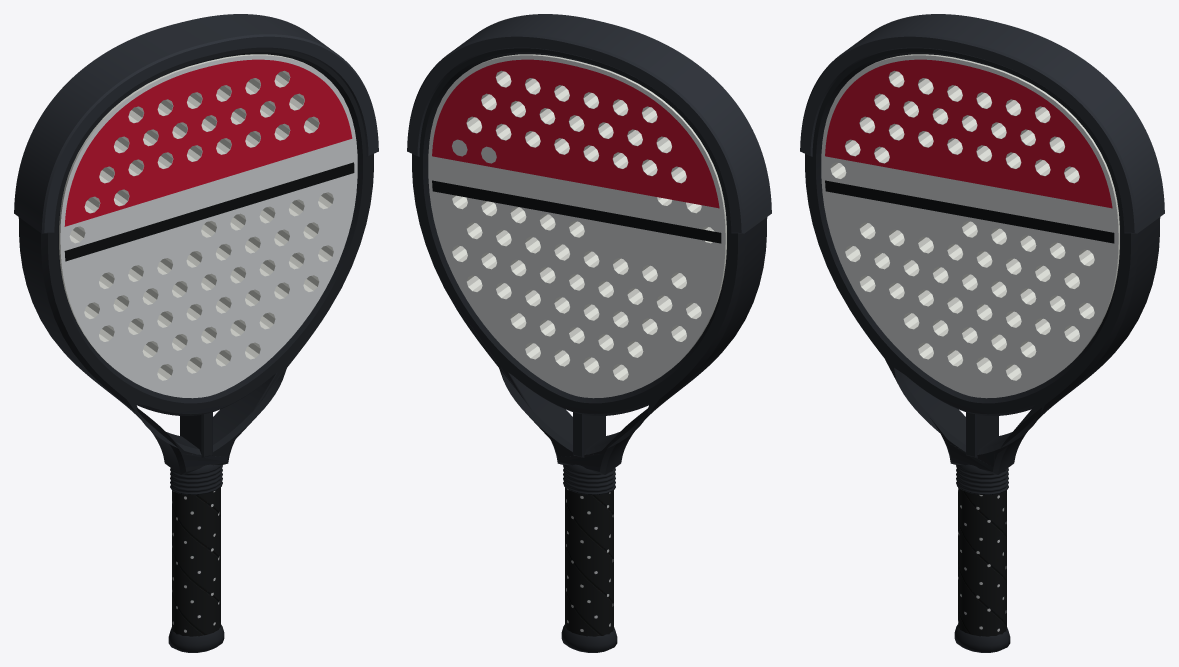
Rendered from wilson-bela-pro-v3.preview.glb.
The picture shows the model from 3 angles, left to right: view 1: azimuth 30°, elevation 25°; view 2: azimuth 150°, elevation 25°; view 3: azimuth 330°, elevation 25°; orthographic projection.
Parts seen in each view (by area): view 1: part_face, part_print, part_frame, part_bumper, part_grip, part_collar, part_bridge, part_cap; view 2: part_face, part_print, part_frame, part_bumper, part_grip, part_collar, part_bridge, part_cap; view 3: part_face, part_print, part_frame, part_bumper, part_grip, part_collar, part_bridge, part_cap.
Boxes of the visible parts, <box> form: part_face: <box>59,54,357,398</box>; part_print: <box>64,59,354,261</box>; part_frame: <box>18,48,373,474</box>; part_bumper: <box>14,14,378,233</box>; part_grip: <box>172,487,220,636</box>; part_collar: <box>170,464,222,494</box>; part_bridge: <box>180,412,212,457</box>; part_cap: <box>168,624,224,652</box>; part_face: <box>428,54,726,398</box>; part_print: <box>432,59,721,243</box>; part_frame: <box>412,48,767,474</box>; part_bumper: <box>407,14,771,233</box>; part_grip: <box>565,487,613,636</box>; part_collar: <box>563,464,615,494</box>; part_bridge: <box>573,412,605,457</box>; part_cap: <box>561,624,617,652</box>; part_face: <box>821,54,1119,398</box>; part_print: <box>825,59,1114,243</box>; part_frame: <box>805,48,1160,474</box>; part_bumper: <box>800,14,1164,233</box>; part_grip: <box>958,487,1006,636</box>; part_collar: <box>956,464,1008,494</box>; part_bridge: <box>966,412,998,457</box>; part_cap: <box>954,624,1010,652</box>.
Bounding box in the file's own units: 0.2631 × 0.4566 × 0.0404.
Materials: 10 (1 with a texture image).
